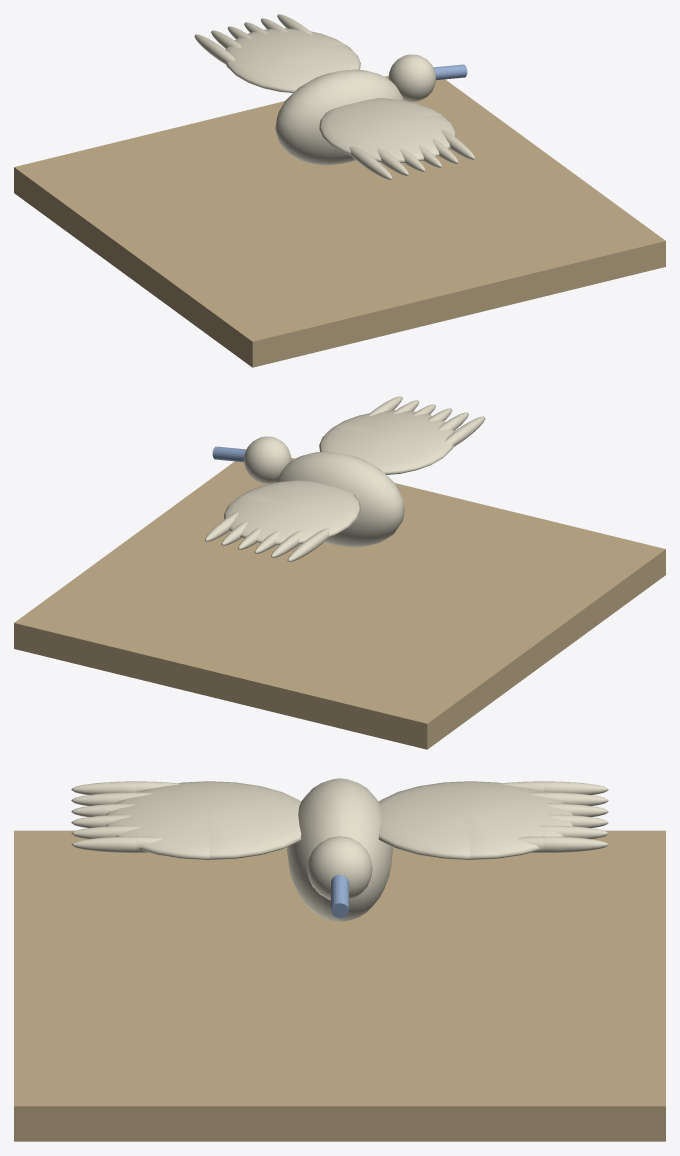
Rendered from pomba.glb.
3 views of the same model, one above another, from view 1: azimuth 30°, elevation 25°; view 2: azimuth 150°, elevation 25°; view 3: azimuth 270°, elevation 25° (orthographic). The views are drawn at different scales.
Visible parts, largest first — view 1: Base ilustrativa, Asa.001, Corpo, Asa, Cabeça, Pena estilizada.006; view 2: Base ilustrativa, Asa, Corpo, Asa.001, Cabeça, Pena estilizada; view 3: Base ilustrativa, Asa, Asa.001, Corpo, Cabeça, Pena estilizada.005, Pena estilizada.011, Pena estilizada, Pena estilizada.006, Bico, Pena estilizada.001, Pena estilizada.007 (+2 smaller).
Boxes of the visible parts, left/top/right/bottom form: Base ilustrativa: left=14, top=76, right=665, bottom=367; Asa.001: left=319, top=98, right=456, bottom=162; Corpo: left=275, top=69, right=403, bottom=165; Asa: left=225, top=28, right=360, bottom=92; Cabeça: left=388, top=54, right=435, bottom=101; Pena estilizada.006: left=349, top=146, right=392, bottom=179; Base ilustrativa: left=14, top=458, right=665, bottom=749; Asa: left=223, top=480, right=360, bottom=544; Corpo: left=276, top=451, right=404, bottom=547; Asa.001: left=319, top=410, right=454, bottom=474; Cabeça: left=244, top=436, right=291, bottom=483; Pena estilizada: left=287, top=528, right=330, bottom=561; Base ilustrativa: left=14, top=830, right=665, bottom=1141; Asa: left=378, top=781, right=573, bottom=859; Asa.001: left=106, top=781, right=301, bottom=859; Corpo: left=287, top=778, right=392, bottom=921; Cabeça: left=307, top=836, right=372, bottom=899; Pena estilizada.005: left=517, top=836, right=608, bottom=852; Pena estilizada.011: left=71, top=836, right=162, bottom=852; Pena estilizada: left=499, top=781, right=608, bottom=794; Pena estilizada.006: left=71, top=781, right=180, bottom=794; Bico: left=331, top=875, right=348, bottom=918; Pena estilizada.001: left=527, top=792, right=608, bottom=806; Pena estilizada.007: left=71, top=792, right=152, bottom=806.
Bounding box in the file's own units: 4 × 1.44 × 4.
3 materials, 1 textured.
